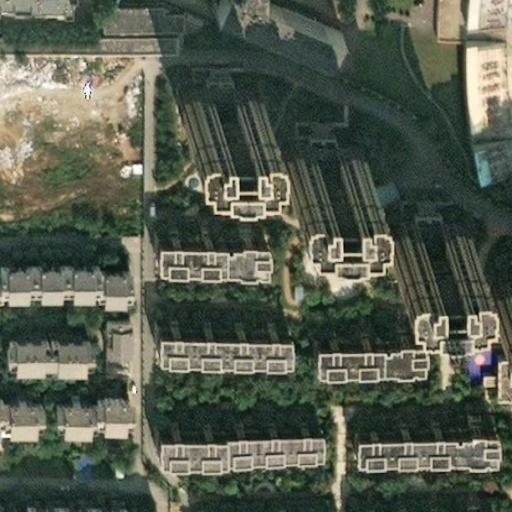building: (202, 0, 333, 45), (149, 408, 312, 438), (460, 39, 512, 133), (348, 413, 488, 445), (142, 309, 271, 339), (162, 79, 244, 124), (378, 208, 460, 253), (271, 132, 352, 177), (297, 322, 407, 350), (144, 221, 250, 250), (97, 2, 193, 34), (0, 326, 77, 362), (464, 349, 511, 402), (341, 495, 481, 512), (194, 494, 326, 512), (5, 494, 107, 512), (75, 382, 115, 419), (94, 308, 120, 362), (481, 273, 512, 318), (36, 390, 75, 425), (83, 254, 117, 285), (0, 390, 26, 424), (107, 500, 139, 512)
